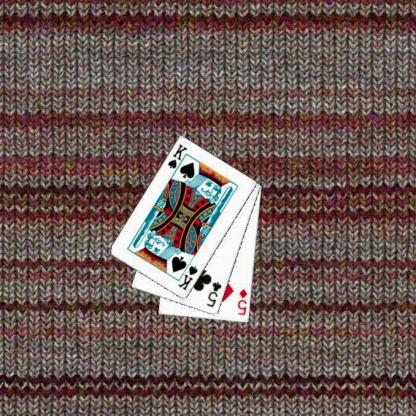5C: (204, 279, 223, 309)
5D: (235, 286, 248, 316)
KS: (165, 142, 189, 175), (175, 263, 199, 292)
